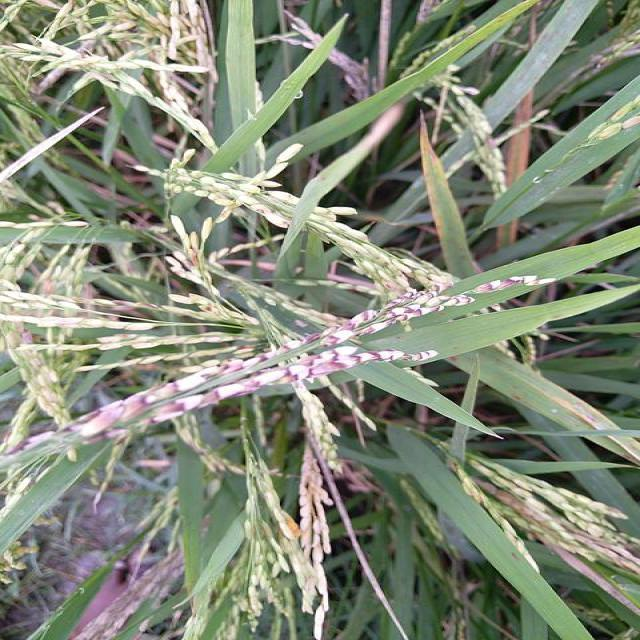Panicle Blight: (0, 276, 543, 464), (472, 460, 639, 567), (299, 445, 335, 629), (355, 249, 459, 298), (257, 11, 323, 49), (175, 220, 212, 281), (329, 50, 372, 100), (161, 297, 252, 319)
